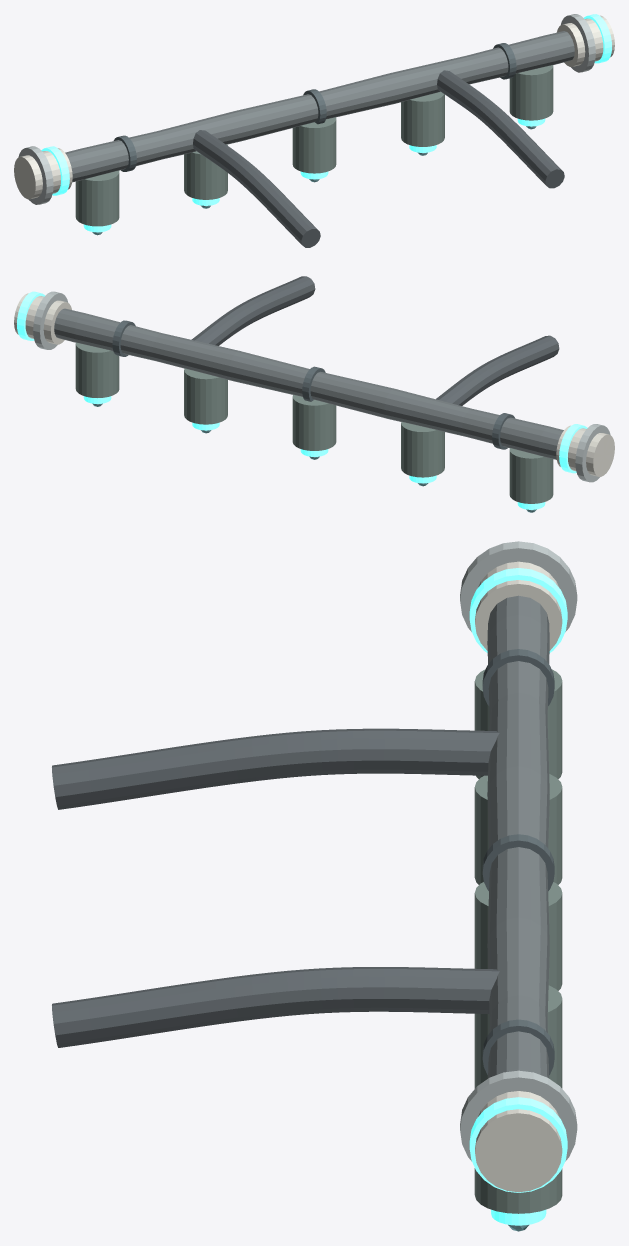
The model's file is s7-i05-dripline-1m-branches.glb.
The picture shows the model from 3 angles, top to bottom: view 1: azimuth 30°, elevation 25°; view 2: azimuth 150°, elevation 25°; view 3: azimuth 270°, elevation 25°; orthographic projection. The views are drawn at different scales.
Parts seen in each view (by area): view 1: 000_actual_curved_hose_swept_3d, 026_branch_tube_0.73, 025_branch_tube_0.28, 016_drip_junction_2, 010_drip_junction_0, 022_drip_junction_4, 019_drip_junction_3, 013_drip_junction_1, 001_end_0_sealing_socket, 004_end_1_sealing_socket, 003_end_0_locking_collar, 006_end_1_locking_collar (+5 smaller); view 2: 000_actual_curved_hose_swept_3d, 025_branch_tube_0.28, 026_branch_tube_0.73, 016_drip_junction_2, 010_drip_junction_0, 022_drip_junction_4, 013_drip_junction_1, 019_drip_junction_3, 001_end_0_sealing_socket, 004_end_1_sealing_socket, 006_end_1_locking_collar, 003_end_0_locking_collar (+5 smaller); view 3: 000_actual_curved_hose_swept_3d, 026_branch_tube_0.73, 025_branch_tube_0.28, 004_end_1_sealing_socket, 003_end_0_locking_collar, 006_end_1_locking_collar, 001_end_0_sealing_socket, 013_drip_junction_1, 016_drip_junction_2, 022_drip_junction_4, 010_drip_junction_0, 019_drip_junction_3 (+5 smaller).
Part boxes in pixels (x1,y1,x2,y2): 000_actual_curved_hose_swept_3d: (65, 31, 574, 182); 026_branch_tube_0.73: (437, 70, 564, 188); 025_branch_tube_0.28: (193, 130, 320, 247); 016_drip_junction_2: (292, 117, 336, 173); 010_drip_junction_0: (75, 170, 119, 226); 022_drip_junction_4: (509, 65, 553, 120); 019_drip_junction_3: (401, 92, 444, 146); 013_drip_junction_1: (184, 144, 227, 199); 001_end_0_sealing_socket: (14, 148, 72, 199); 004_end_1_sealing_socket: (557, 15, 614, 66); 003_end_0_locking_collar: (18, 146, 53, 204); 006_end_1_locking_collar: (561, 14, 595, 72); 000_actual_curved_hose_swept_3d: (54, 308, 563, 459); 025_branch_tube_0.28: (436, 335, 559, 405); 026_branch_tube_0.73: (191, 276, 315, 345); 016_drip_junction_2: (292, 395, 336, 450); 010_drip_junction_0: (509, 448, 553, 503); 022_drip_junction_4: (75, 342, 119, 397); 013_drip_junction_1: (401, 422, 444, 477); 019_drip_junction_3: (184, 368, 227, 424); 001_end_0_sealing_socket: (556, 425, 614, 476); 004_end_1_sealing_socket: (14, 293, 71, 344); 006_end_1_locking_collar: (33, 291, 68, 349); 003_end_0_locking_collar: (575, 424, 610, 482); 000_actual_curved_hose_swept_3d: (487, 595, 549, 1078); 026_branch_tube_0.73: (52, 967, 499, 1047); 025_branch_tube_0.28: (52, 728, 499, 809); 004_end_1_sealing_socket: (475, 1091, 562, 1192); 003_end_0_locking_collar: (460, 541, 577, 631); 006_end_1_locking_collar: (460, 1070, 577, 1161); 001_end_0_sealing_socket: (475, 561, 562, 650); 013_drip_junction_1: (474, 774, 562, 884); 016_drip_junction_2: (474, 882, 562, 990); 022_drip_junction_4: (474, 1168, 562, 1213); 010_drip_junction_0: (474, 669, 562, 779); 019_drip_junction_3: (474, 985, 562, 1088).
Size of the model in its own units: 1.07 by 0.1778 by 0.4195.
